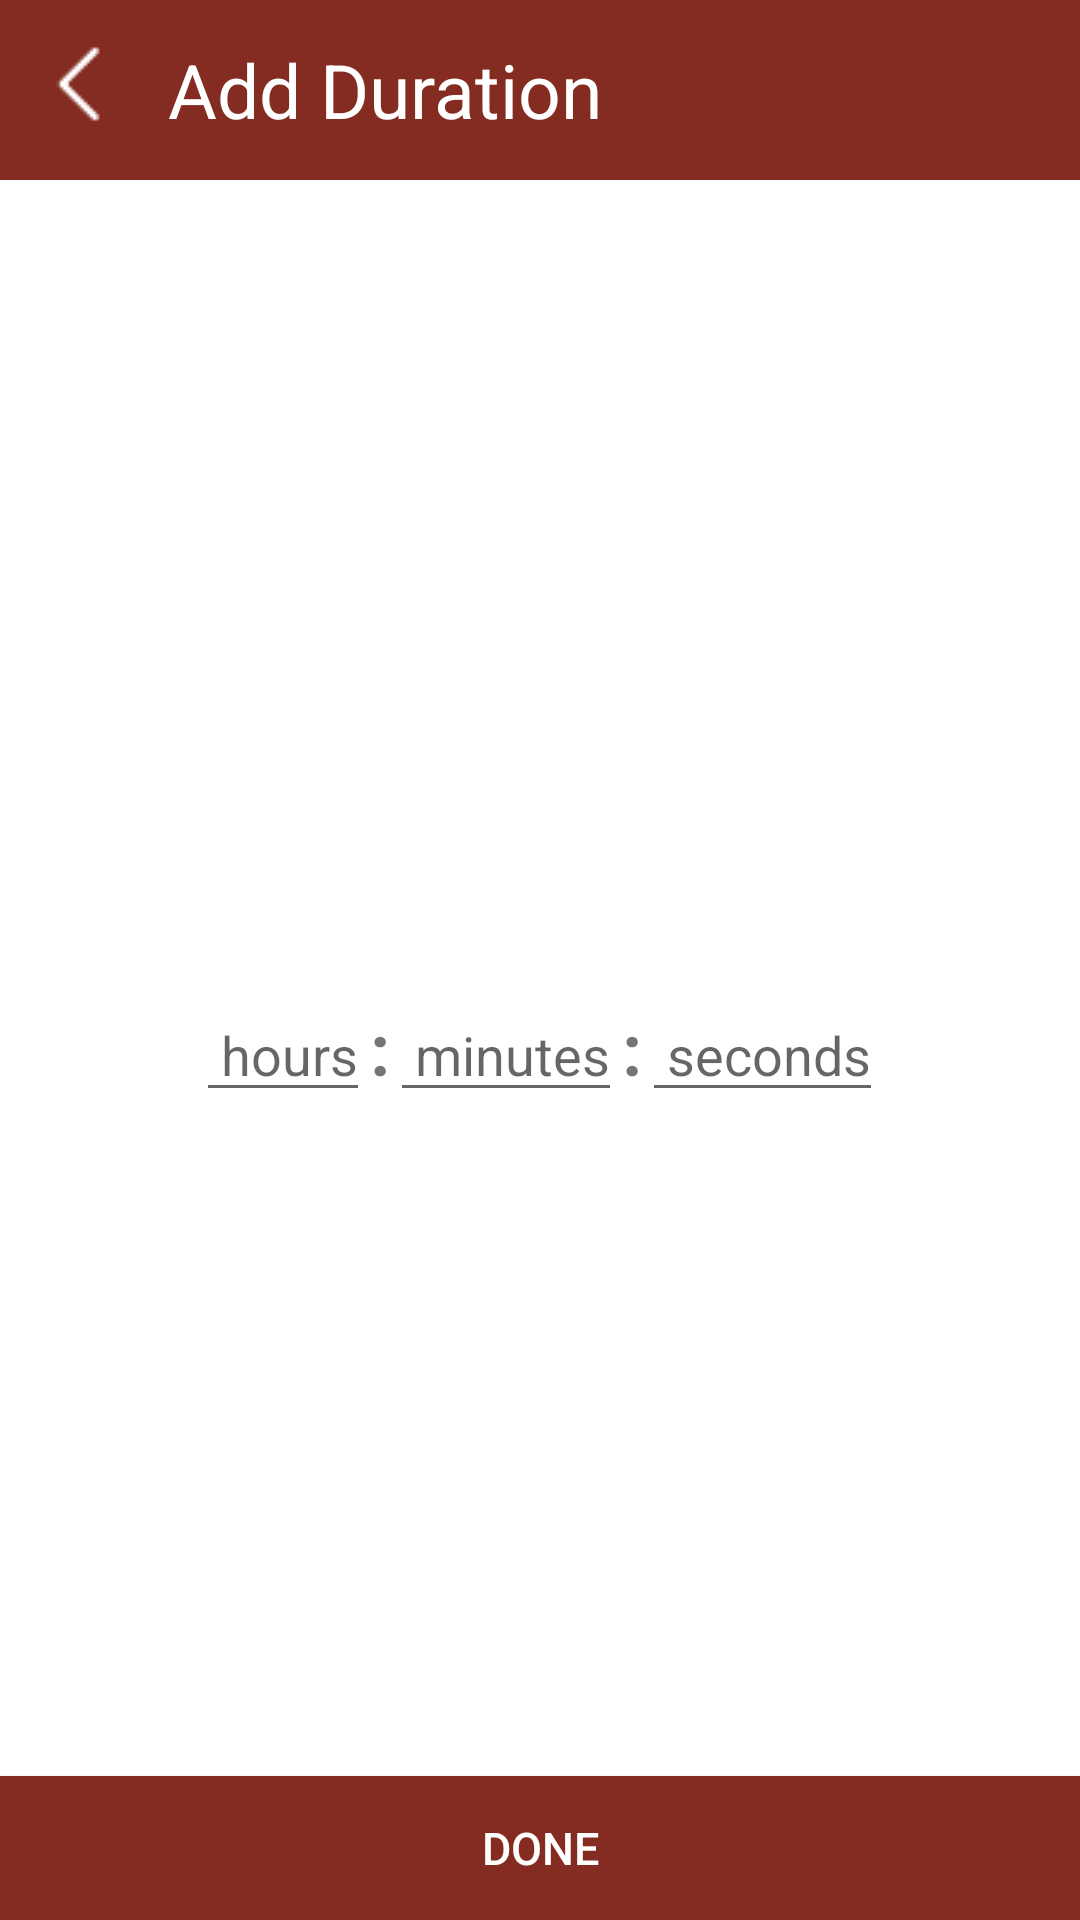

Named icons in this screenshot (1080 × 1920) and their centers, (x=x, y=y):
backbutton: (x=79, y=84)
